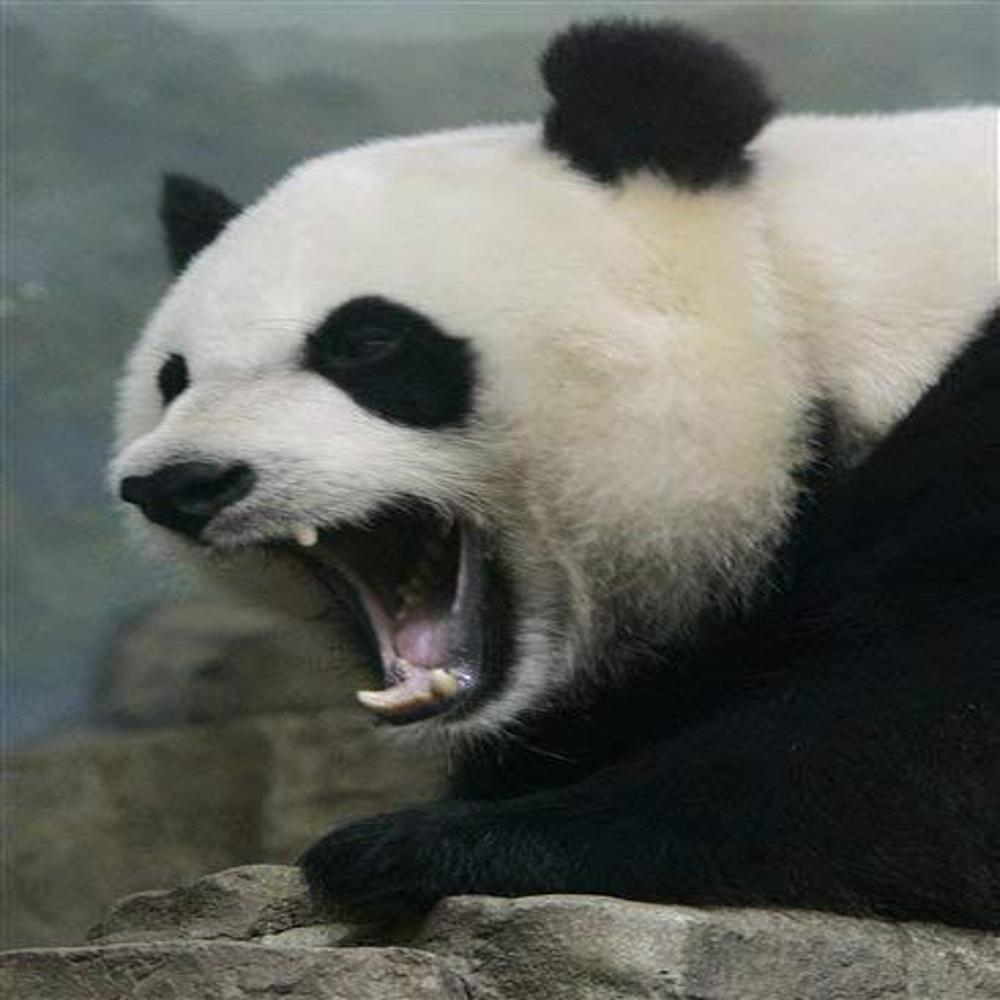panda: (108, 16, 1000, 950)
